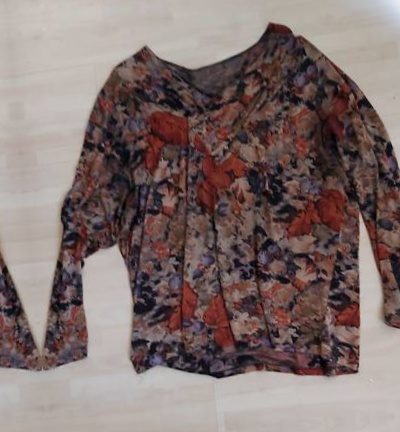Blouse: (12, 5, 400, 413), (0, 45, 44, 432), (0, 0, 2, 36)
